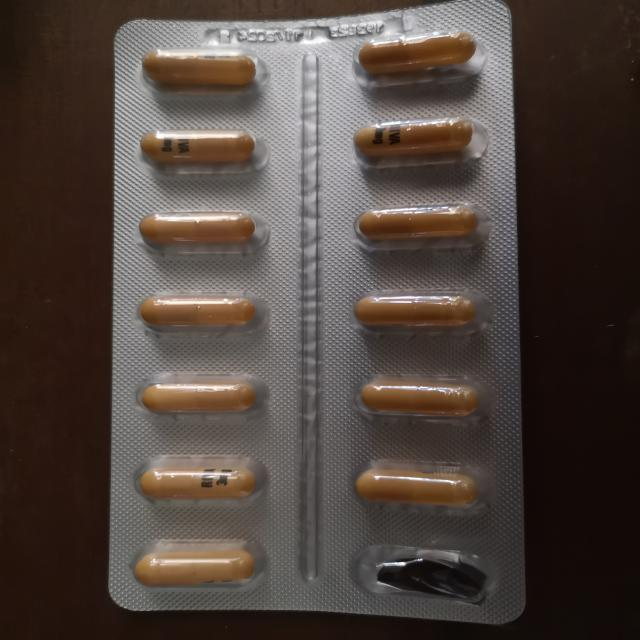Empty: (343, 541, 500, 607)
Pill: (343, 457, 495, 518), (351, 29, 491, 86), (124, 538, 270, 592), (348, 116, 494, 168), (134, 204, 272, 259), (127, 452, 269, 505), (346, 288, 496, 338), (132, 369, 273, 421), (348, 201, 490, 252), (131, 290, 274, 340), (134, 125, 271, 177), (350, 375, 486, 426), (136, 44, 272, 95)
